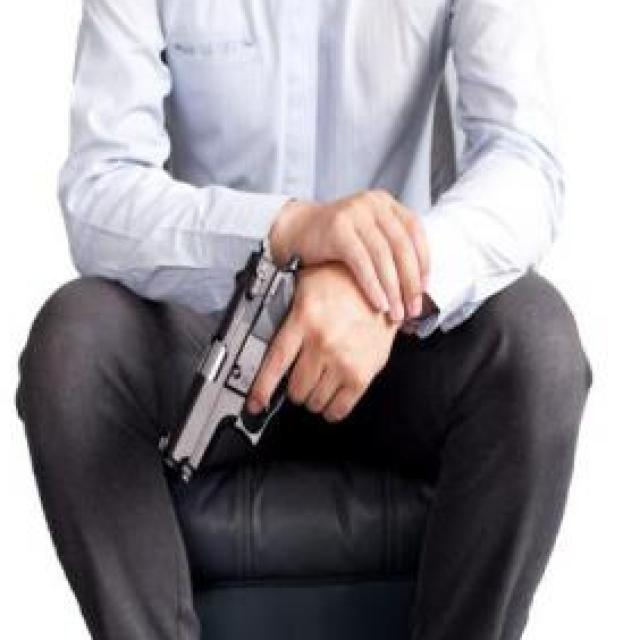pistol: (160, 259, 397, 489)
